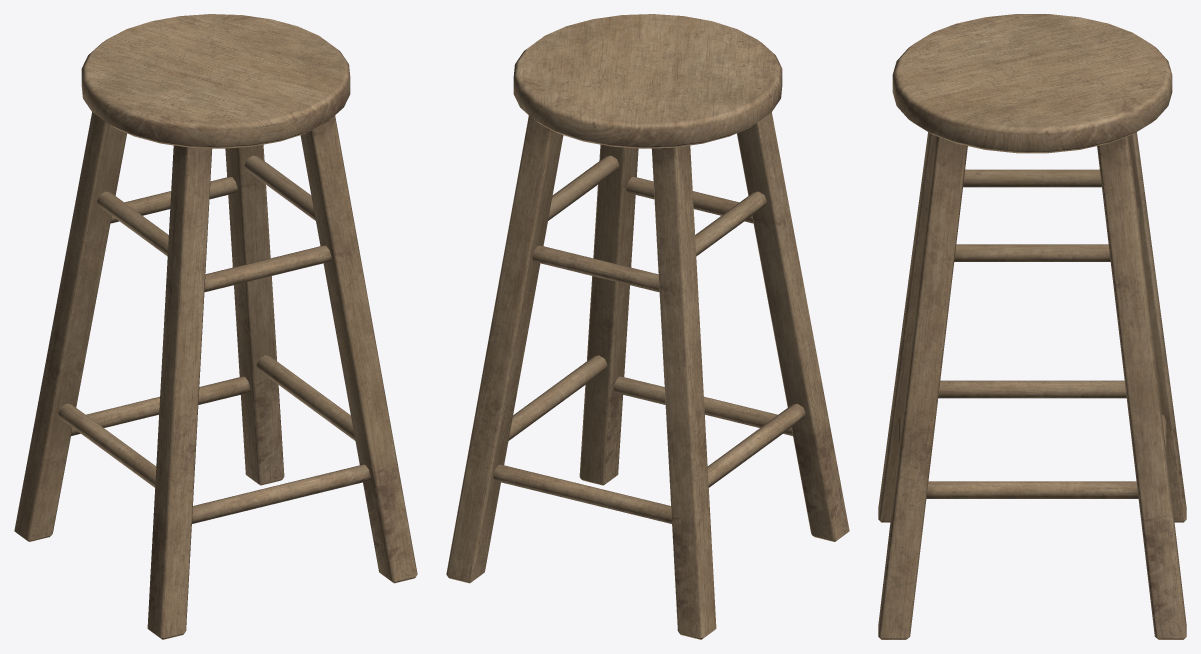
Rendered from Stool_3.fbx.
3 renders of one model, left to right at view 1: azimuth 30°, elevation 25°; view 2: azimuth 150°, elevation 25°; view 3: azimuth 270°, elevation 25°, orthographic. The views are drawn at different scales.
Visible parts, largest first — view 1: stool; view 2: stool; view 3: stool.
Boxes of the visible parts, left/top/right/bottom form: stool: left=14, top=14, right=417, bottom=639; stool: left=446, top=14, right=849, bottom=639; stool: left=878, top=14, right=1186, bottom=639.
Bounding box in the file's own units: 32.36 × 58.38 × 32.27.
